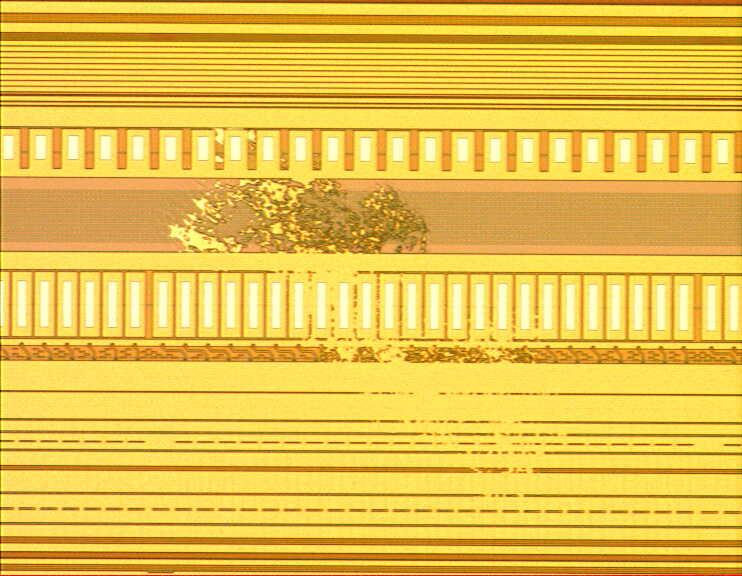BLOCK ETCH: (163, 120, 545, 512)
